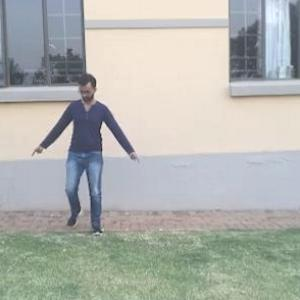land: (30, 75, 140, 242)
